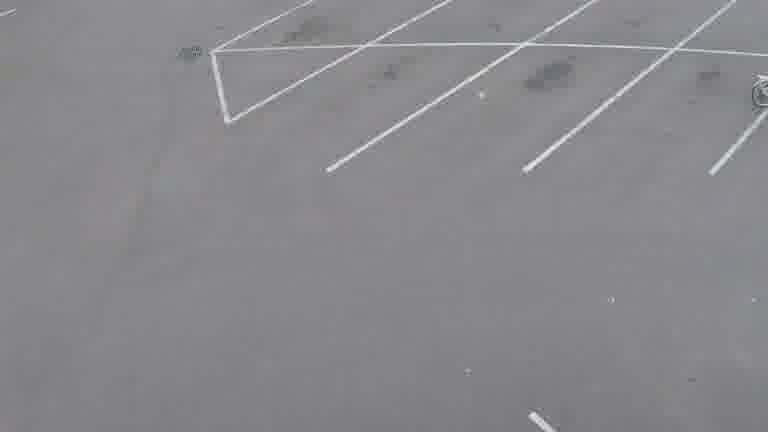bike: (752, 71, 768, 115)
